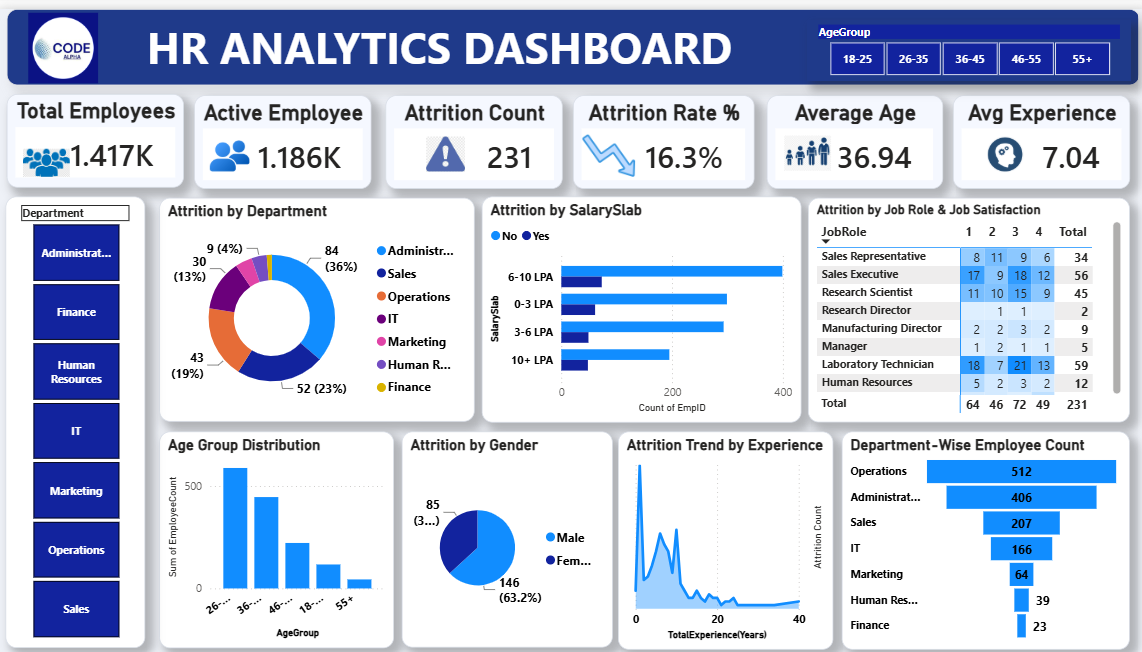

The page's visual inventory and layout, read from the dashboard file:
{"tool":"powerbi","page":{"name":"Page 1","canvas":[1280,720],"ordinal":0},"visuals":[{"type":"textbox","box":[10,0,1259,85],"z":0},{"type":"image","box":[0,4.3,144.9,78.3],"z":1000},{"type":"cardVisual","title":"Total Employees","fields":{"Data":["CountNonNull(HR_Analytics-4.EmpID)"]},"box":[10,95,197,104],"z":2000},{"type":"cardVisual","title":"Active Employee","fields":{"Data":["CountNonNull(HR_Analytics-4.EmployeeCount)"]},"box":[217.4,95.7,197.1,104.3],"z":3000},{"type":"cardVisual","title":"Attrition Count","fields":{"Data":["HR_Analytics-4.Attrition Count"]},"box":[430.4,95.7,197.1,104.3],"z":4000},{"type":"cardVisual","title":"Attrition Rate %","fields":{"Data":["HR_Analytics-4.Attrition Rate"]},"box":[639.1,95.7,201.4,104.3],"z":5000},{"type":"cardVisual","title":"Average Age","fields":{"Data":["Avg(HR_Analytics-4.Age)"]},"box":[853.6,95.7,195.7,104.3],"z":6000},{"type":"cardVisual","title":"Avg Experience","fields":{"Data":["Avg(HR_Analytics-4.YearsatCompany)"]},"box":[1060.9,95.7,197.1,104.3],"z":7000},{"type":"image","box":[27.5,142,52.2,58],"z":8000},{"type":"image","box":[1079.7,136.2,79.7,50.7],"z":9000},{"type":"image","box":[230.4,142,53.6,43.5],"z":10000},{"type":"image","box":[465.2,142,63.8,39.1],"z":11000},{"type":"image","box":[640.6,131.9,76.8,62.3],"z":12000},{"type":"image","box":[873.9,133.3,52.2,53.6],"z":13000},{"type":"donutChart","title":"Attrition by Department","fields":{"Category":["HR_Analytics-4.Department"],"Y":["HR_Analytics-4.Attrition Count"]},"box":[179,210,350,249],"z":14000},{"type":"clusteredBarChart","title":"Attrition by SalarySlab","fields":{"Category":["HR_Analytics-4.SalarySlab"],"Y":["CountNonNull(HR_Analytics-4.EmpID)"],"Series":["HR_Analytics-4.Attrition"]},"box":[537,209,355,251],"z":15000},{"type":"pivotTable","title":"Attrition by Job Role & Job Satisfaction","fields":{"Rows":["HR_Analytics-4.JobRole"],"Values":["HR_Analytics-4.Attrition Count"],"Columns":["HR_Analytics-4.JobSatisfaction"]},"box":[900,210.1,358,249.3],"z":16000},{"type":"columnChart","title":"Age Group Distribution","fields":{"Category":["HR_Analytics-4.AgeGroup"],"Y":["Sum(HR_Analytics-4.EmployeeCount)"]},"box":[179.7,469.6,260.9,240.6],"z":16001},{"type":"pieChart","title":"Attrition by Gender","fields":{"Category":["HR_Analytics-4.Gender"],"Y":["HR_Analytics-4.Attrition Count"]},"box":[448,469.6,234,240],"z":16002},{"type":"areaChart","title":"Attrition Trend by Experience","fields":{"Category":["HR_Analytics-4.TotalExperience(Years)"],"Y2":["HR_Analytics-4.Attrition Count"]},"box":[689,469,239,242],"z":16003},{"type":"funnel","title":"Department-Wise Employee Count","fields":{"Category":["HR_Analytics-4.Department"],"Y":["CountNonNull(HR_Analytics-4.EmpID)"]},"box":[937.7,469.6,320.3,242],"z":16004},{"type":"slicer","fields":{"Values":["HR_Analytics-4.Department"]},"box":[9,209,155.1,501.4],"z":16005},{"type":"slicer","fields":{"Values":["HR_Analytics-4.AgeGroup"]},"box":[898,12,360.9,68.1],"z":16006}]}

Visuals, with their boxes in screenshot pixels (x1, y1, x2, y2), scaled from the page's 1280x720 canvas onto the 1142x652 screenshot:
textbox: Rect(9, 0, 1132, 77)
image: Rect(0, 4, 129, 75)
"Total Employees" cardVisual: Rect(9, 86, 185, 180)
"Active Employee" cardVisual: Rect(194, 87, 370, 181)
"Attrition Count" cardVisual: Rect(384, 87, 560, 181)
"Attrition Rate %" cardVisual: Rect(570, 87, 750, 181)
"Average Age" cardVisual: Rect(762, 87, 936, 181)
"Avg Experience" cardVisual: Rect(947, 87, 1122, 181)
image: Rect(25, 129, 71, 181)
image: Rect(963, 123, 1034, 169)
image: Rect(206, 129, 253, 168)
image: Rect(415, 129, 472, 164)
image: Rect(572, 119, 640, 176)
image: Rect(780, 121, 826, 169)
"Attrition by Department" donutChart: Rect(160, 190, 472, 416)
"Attrition by SalarySlab" clusteredBarChart: Rect(479, 189, 796, 417)
"Attrition by Job Role & Job Satisfaction" pivotTable: Rect(803, 190, 1122, 416)
"Age Group Distribution" columnChart: Rect(160, 425, 393, 643)
"Attrition by Gender" pieChart: Rect(400, 425, 608, 643)
"Attrition Trend by Experience" areaChart: Rect(615, 425, 828, 644)
"Department-Wise Employee Count" funnel: Rect(837, 425, 1122, 644)
slicer - HR_Analytics-4.Department: Rect(8, 189, 146, 643)
slicer - HR_Analytics-4.AgeGroup: Rect(801, 11, 1123, 73)
